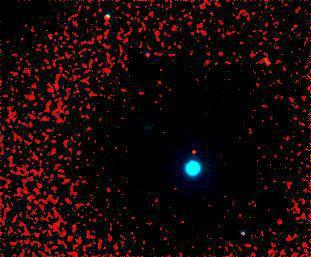star: (179, 138, 209, 168)
